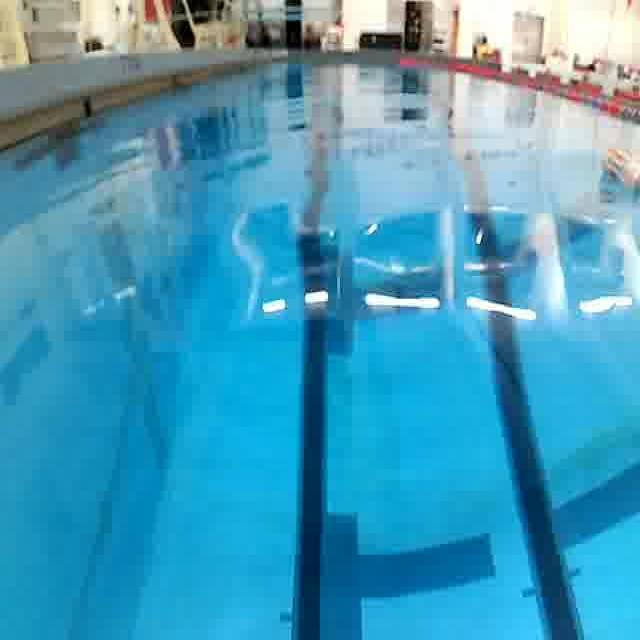Bottle: (598, 142, 640, 196)
